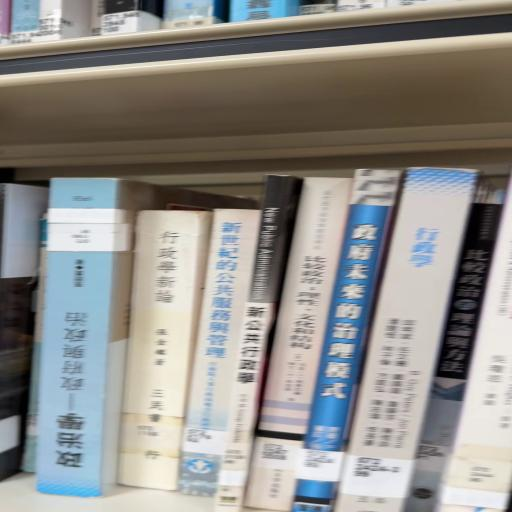reverse: (35, 178, 186, 498)
